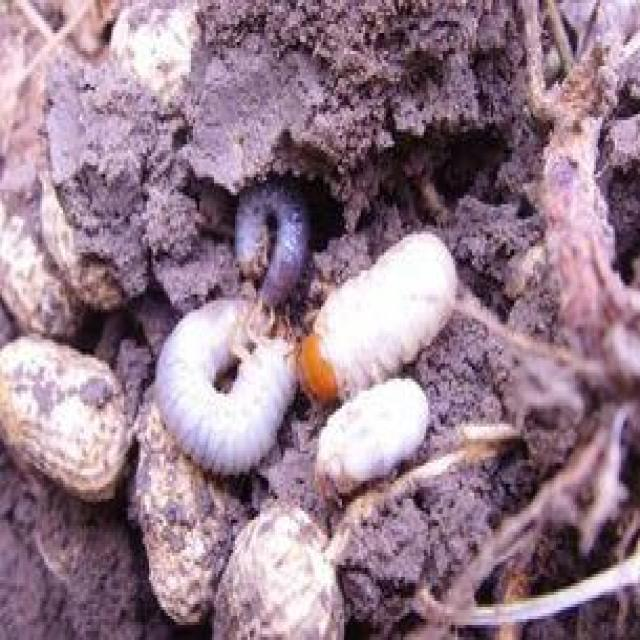Grub-Adult-: (158, 278, 312, 487), (284, 233, 462, 391), (231, 172, 317, 314)
